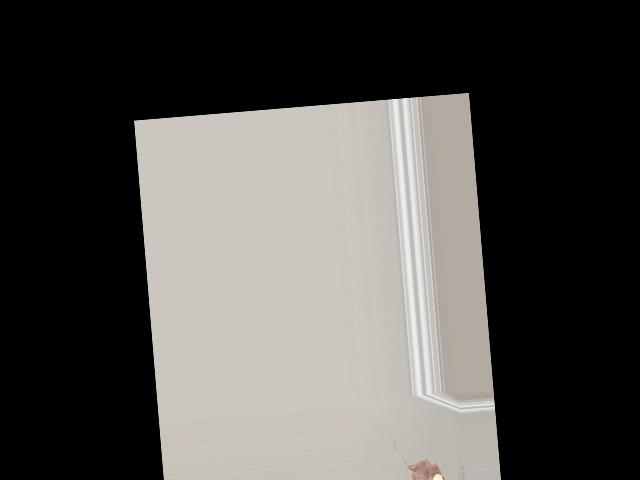beet: (393, 432, 466, 480)
